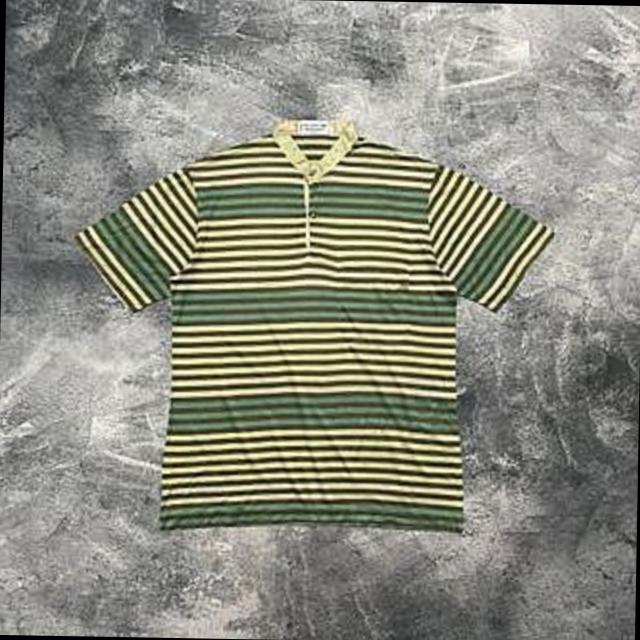T_SHIRT: (64, 108, 561, 542)
